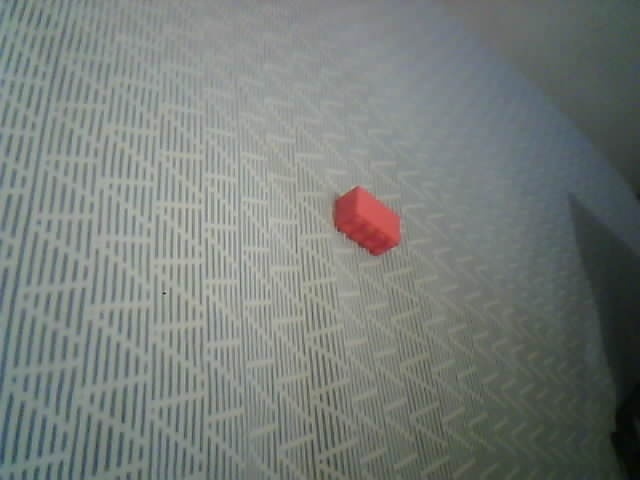lego: (334, 184, 401, 257)
